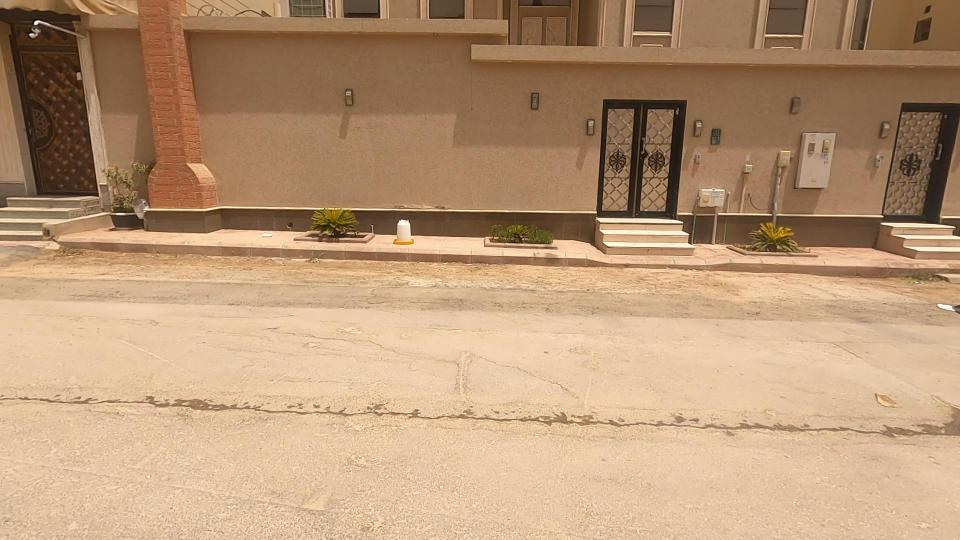GARBAGE: (358, 194, 443, 270), (844, 360, 918, 441), (919, 287, 960, 329)
